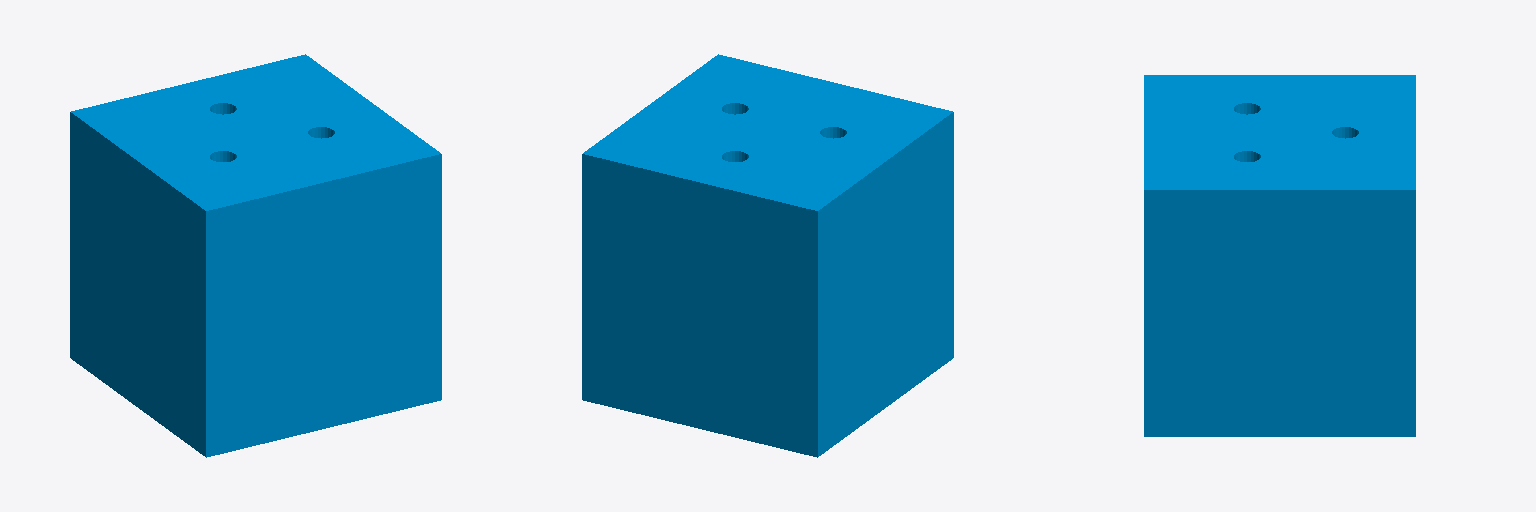
3 views of the same model, side by side, from view 1: azimuth 30°, elevation 25°; view 2: azimuth 150°, elevation 25°; view 3: azimuth 270°, elevation 25° (orthographic).
Visible parts, largest first — view 1: gripping_item_v1; view 2: gripping_item_v1; view 3: gripping_item_v1.
Part boxes in pixels (x1,y1,x2,y2): gripping_item_v1: (70, 54, 441, 457); gripping_item_v1: (582, 54, 953, 457); gripping_item_v1: (1144, 75, 1415, 436).
Bounding box in the file's own units: 0.6 × 0.6 × 0.6.
Materials: 1 (1 with a texture image).